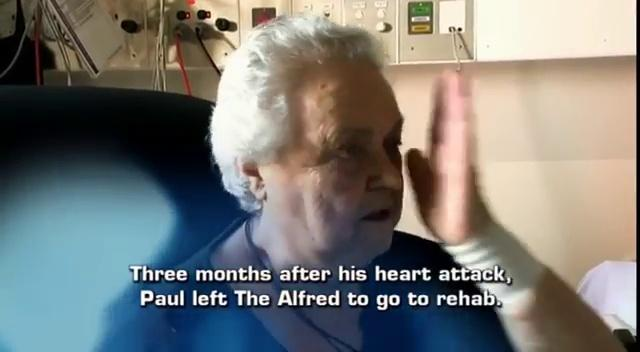patient: (95, 13, 627, 350)
